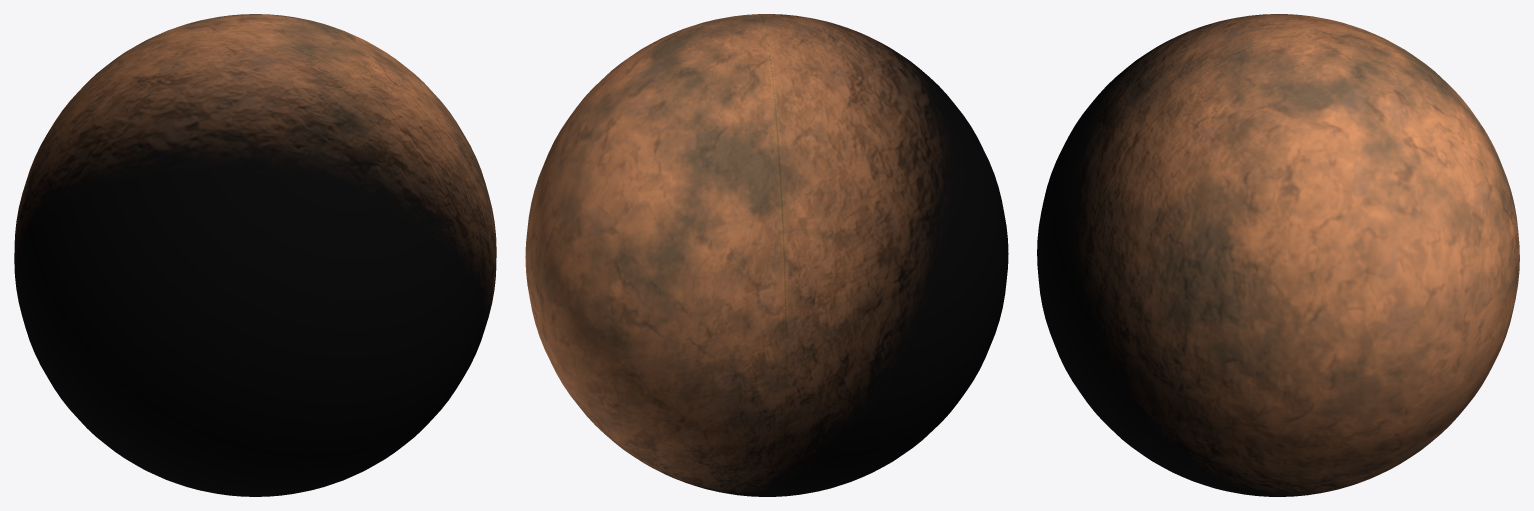
File: mars.gltf
The picture shows the model from 3 angles, left to right: view 1: azimuth 30°, elevation 25°; view 2: azimuth 150°, elevation 25°; view 3: azimuth 270°, elevation 25°; orthographic projection.
Parts seen in each view (by area): view 1: Mars; view 2: Mars; view 3: Mars.
Boxes of the visible parts, x1=… form: Mars: x1=14, y1=14, x2=496, y2=496; Mars: x1=525, y1=14, x2=1008, y2=496; Mars: x1=1037, y1=14, x2=1519, y2=496.
Size of the model in its own units: 2 by 2 by 2.
1 material, 1 textured.
